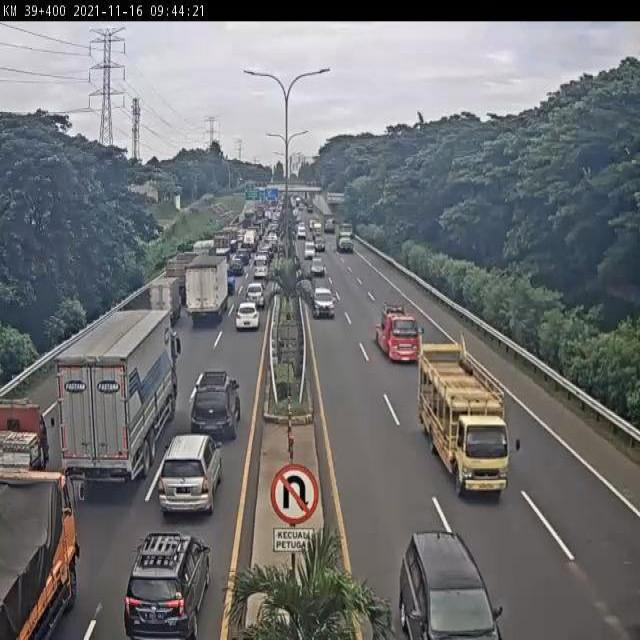car: (397, 529, 509, 640), (129, 521, 201, 631), (157, 435, 221, 521), (191, 368, 236, 444), (232, 303, 265, 336), (310, 286, 336, 318), (238, 287, 266, 305), (251, 260, 268, 281), (227, 258, 241, 282), (308, 253, 323, 270), (303, 237, 315, 255), (313, 231, 323, 249), (297, 220, 305, 235), (310, 219, 317, 225)
small truck: (417, 338, 523, 502), (375, 303, 424, 365), (321, 215, 334, 232)
truck-l-: (55, 310, 181, 482), (337, 226, 356, 258)
truck-m-: (0, 466, 91, 640), (184, 253, 231, 327), (147, 277, 183, 323)
